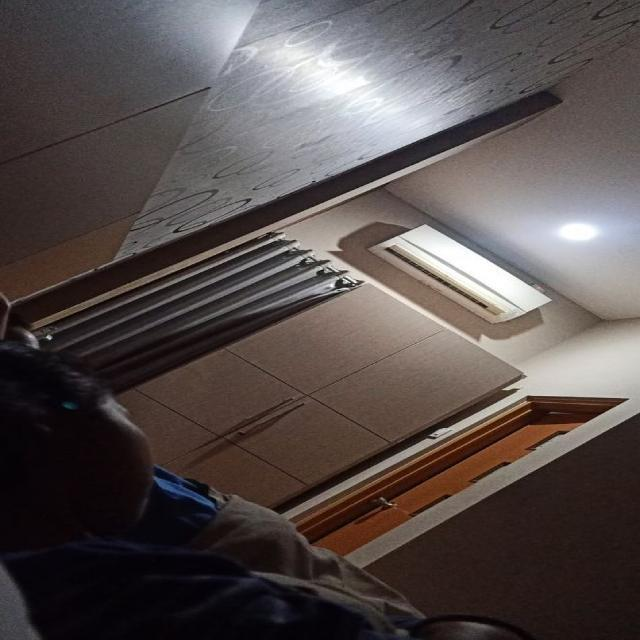AC: (365, 221, 551, 324)
